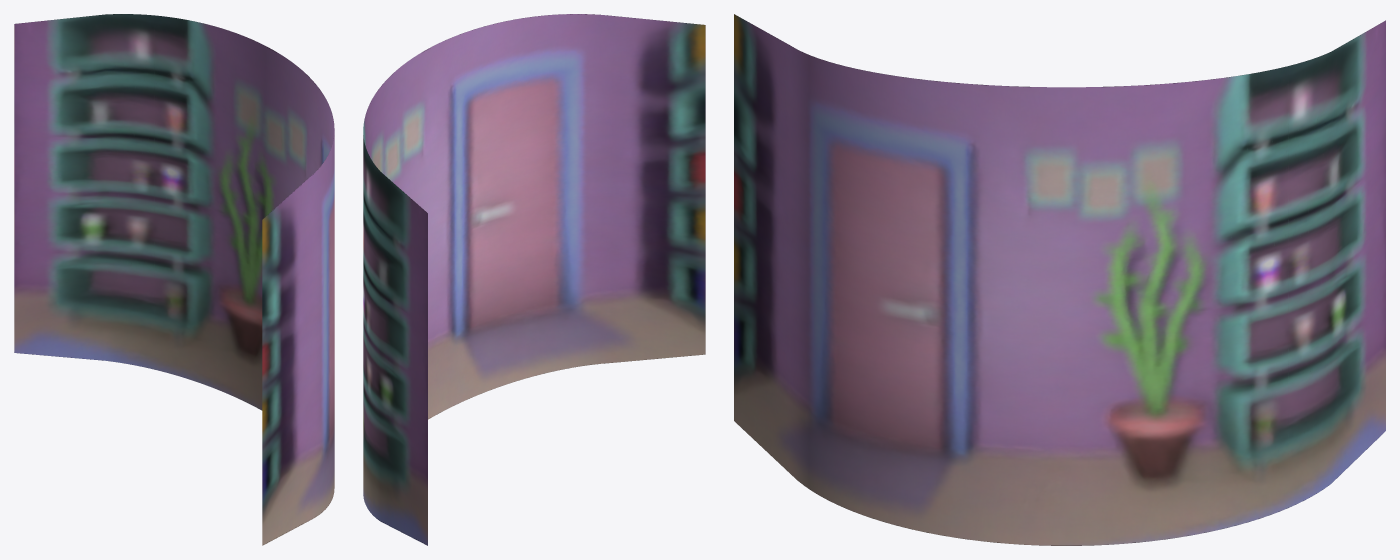
The model's file is background.fbx.
3 views of the same model, side by side, from view 1: azimuth 30°, elevation 25°; view 2: azimuth 150°, elevation 25°; view 3: azimuth 270°, elevation 25° (orthographic). The views are drawn at different scales.
Parts seen in each view (by area): view 1: Cylinder; view 2: Cylinder; view 3: Cylinder.
Part boxes in pixels (left/top/right/bottom): Cylinder: left=14, top=14, right=334, bottom=545; Cylinder: left=363, top=14, right=705, bottom=545; Cylinder: left=734, top=14, right=1385, bottom=545.
Size of the model in its own units: 73.39 by 158 by 204.
